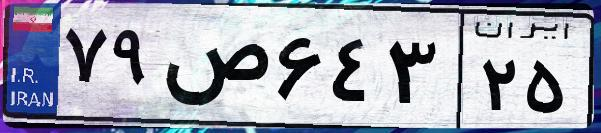2: (475, 38, 525, 113)
3: (385, 28, 445, 110)
4: (330, 28, 385, 110)
5: (525, 38, 570, 115)
6: (270, 28, 330, 110)
7: (57, 26, 110, 100)
9: (110, 28, 158, 98)
ص: (158, 20, 270, 120)
